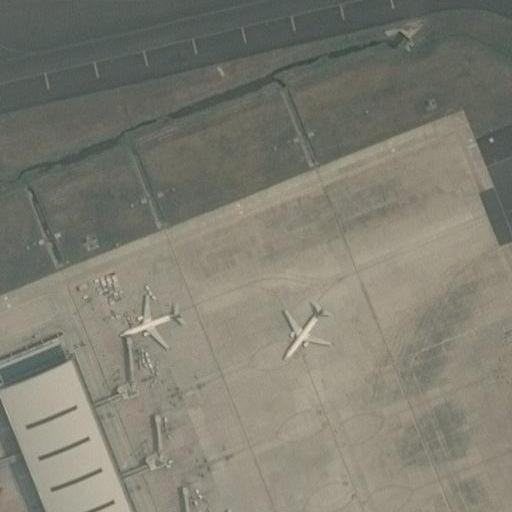Aircraft: (274, 292, 333, 366), (122, 291, 182, 348), (201, 510, 265, 512)
